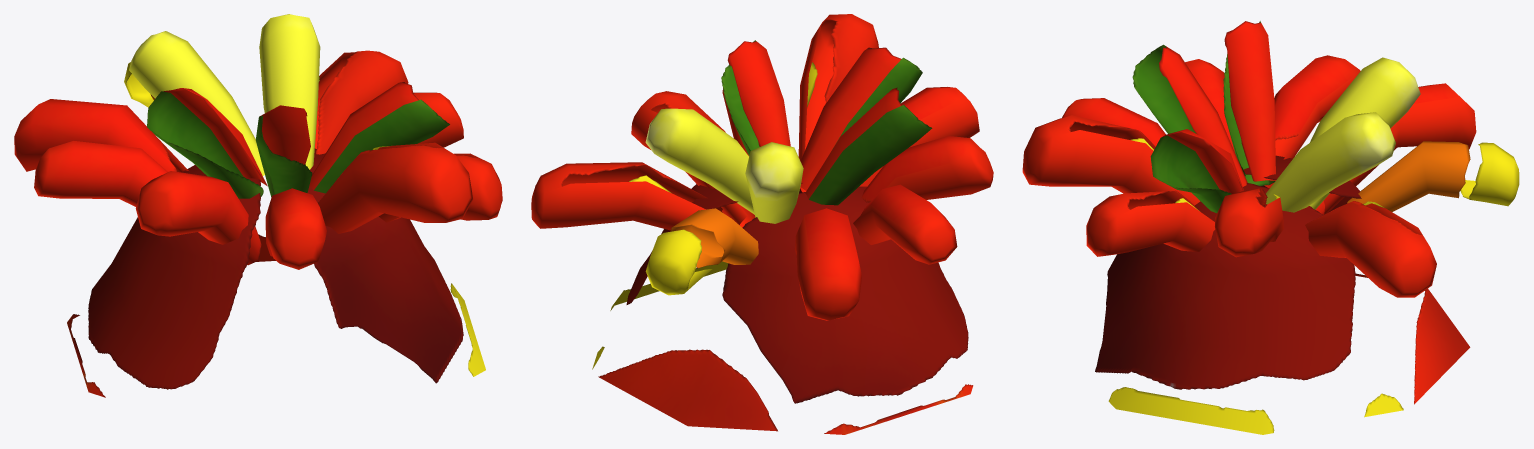
The model's file is Mode_AnemonePollue.fbx.
3 renders of one model, left to right at view 1: azimuth 30°, elevation 25°; view 2: azimuth 150°, elevation 25°; view 3: azimuth 270°, elevation 25°, orthographic. The views are drawn at different scales.
Parts seen in each view (by area): view 1: anemone_polluee; view 2: anemone_polluee; view 3: anemone_polluee.
Boxes of the visible parts, <box> form: anemone_polluee: <box>14,14,502,397</box>; anemone_polluee: <box>531,14,993,434</box>; anemone_polluee: <box>1022,21,1519,434</box>.
Size of the model in its own units: 91.9 by 63.95 by 103.
